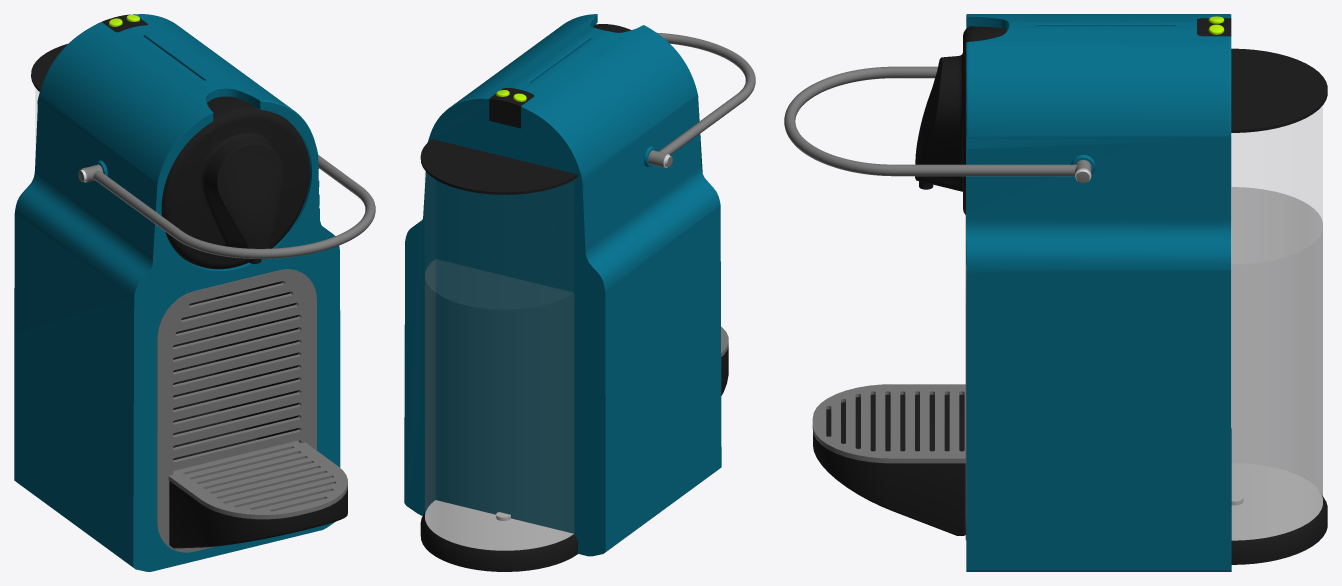
Rendered from nespresso_machine_4.glb.
3 views of the same model, side by side, from view 1: azimuth 30°, elevation 25°; view 2: azimuth 150°, elevation 25°; view 3: azimuth 270°, elevation 25° (orthographic). The views are drawn at different scales.
Parts seen in each view (by area): view 1: geo1; view 2: geo1; view 3: geo1.
Part boxes in pixels (bbox=[...]): geo1: bbox=[14, 14, 375, 571]; geo1: bbox=[404, 14, 755, 571]; geo1: bbox=[784, 14, 1327, 571].
Size of the model in its own units: 0.00502 by 0.0104 by 0.0102.
